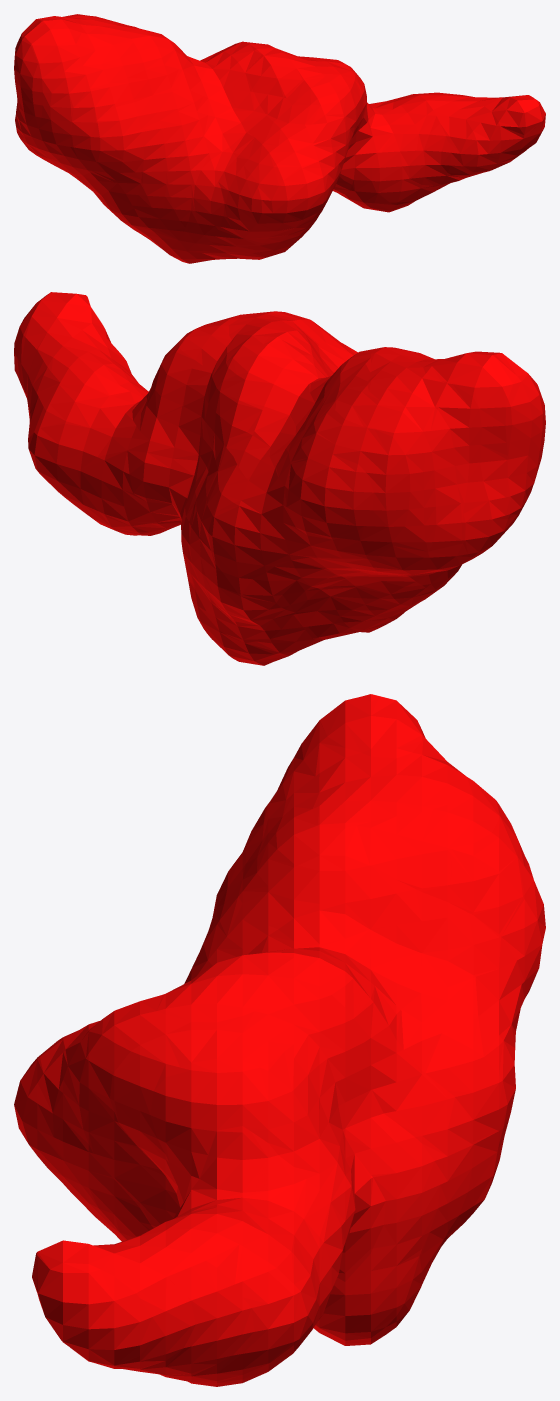
File: yfcZ_coarse.dae
The picture shows the model from 3 angles, top to bottom: view 1: azimuth 30°, elevation 25°; view 2: azimuth 150°, elevation 25°; view 3: azimuth 270°, elevation 25°; orthographic projection. The views are drawn at different scales.
Visible parts, largest first — view 1: yfcZ; view 2: yfcZ; view 3: yfcZ.
Boxes of the visible parts, x1,y1,x2,y2 form: yfcZ: [14, 14, 545, 263]; yfcZ: [14, 292, 545, 665]; yfcZ: [14, 694, 545, 1386].
Size of the model in its own units: 62.96 by 36.02 by 35.54.
